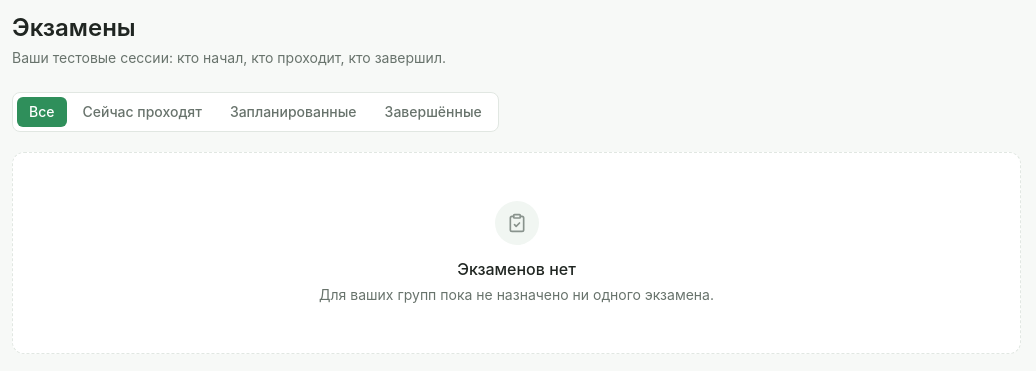
Test: ExamsListPage › filters by status through the API
This screenshot has width=1036, height=371.
Expected: the text "Экзаменов нет" is shown, [457,259,576,279]
Click the radio button labelled "Сейчас проходят" at (142, 112), box [70,97,214,127]
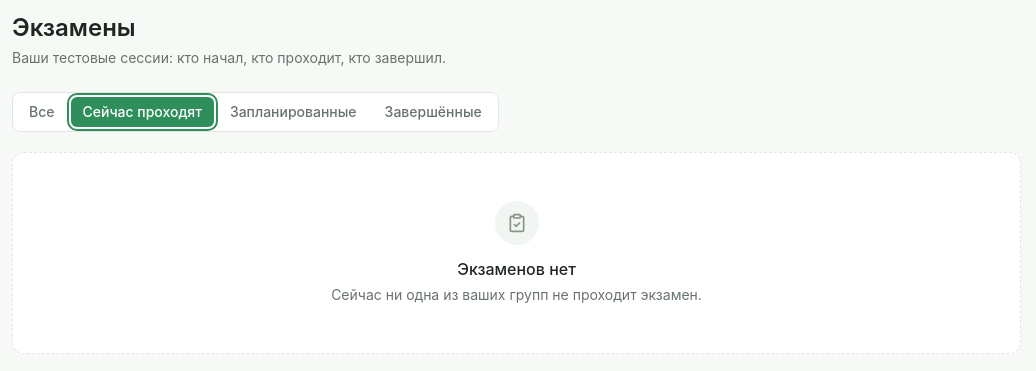
Now the text "Сейчас ни одна из ваших групп не проходит экзамен." is shown, box [331,285,702,305]
